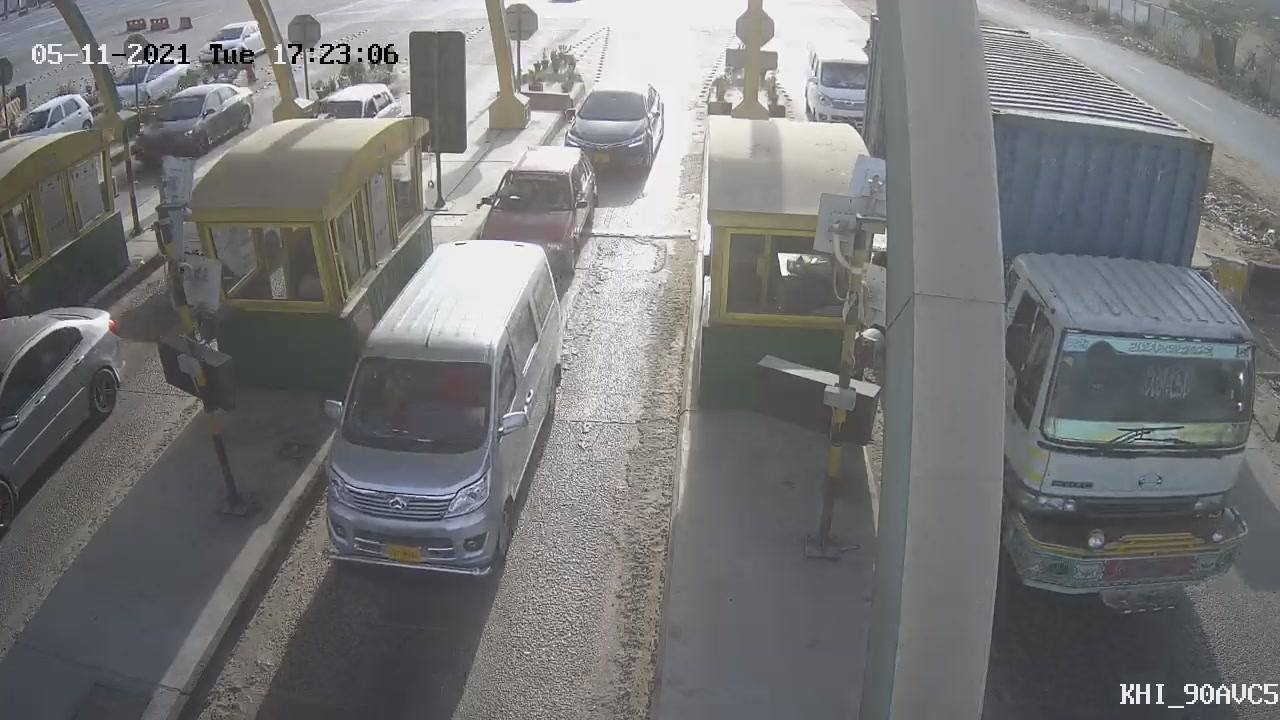F1: (315, 236, 584, 591), (544, 59, 679, 191)
